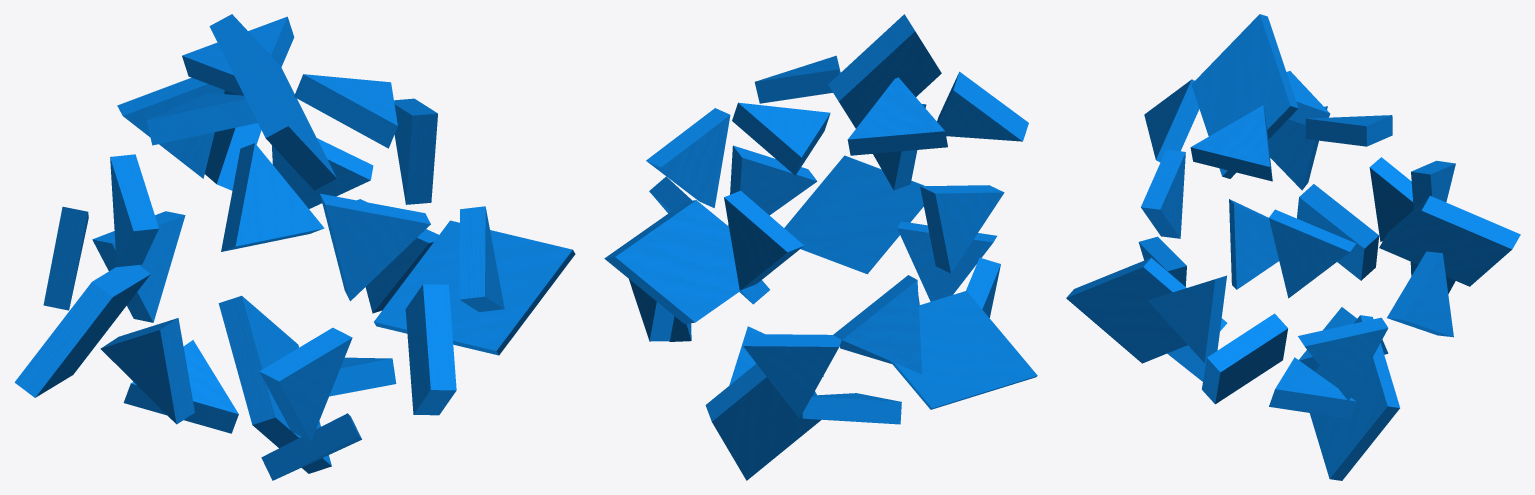
The model's file is qawa_rich.obj.
3 renders of one model, left to right at view 1: azimuth 30°, elevation 25°; view 2: azimuth 150°, elevation 25°; view 3: azimuth 270°, elevation 25°, orthographic. The views are drawn at different scales.
Visible parts, largest first — view 1: Cube.002; view 2: Cube.002; view 3: Cube.002.
Boxes of the visible parts, bbox=[...] form: Cube.002: bbox=[14, 14, 575, 480]; Cube.002: bbox=[604, 14, 1037, 480]; Cube.002: bbox=[1066, 14, 1520, 480].
Size of the model in its own units: 1.78 by 1.79 by 1.77.
